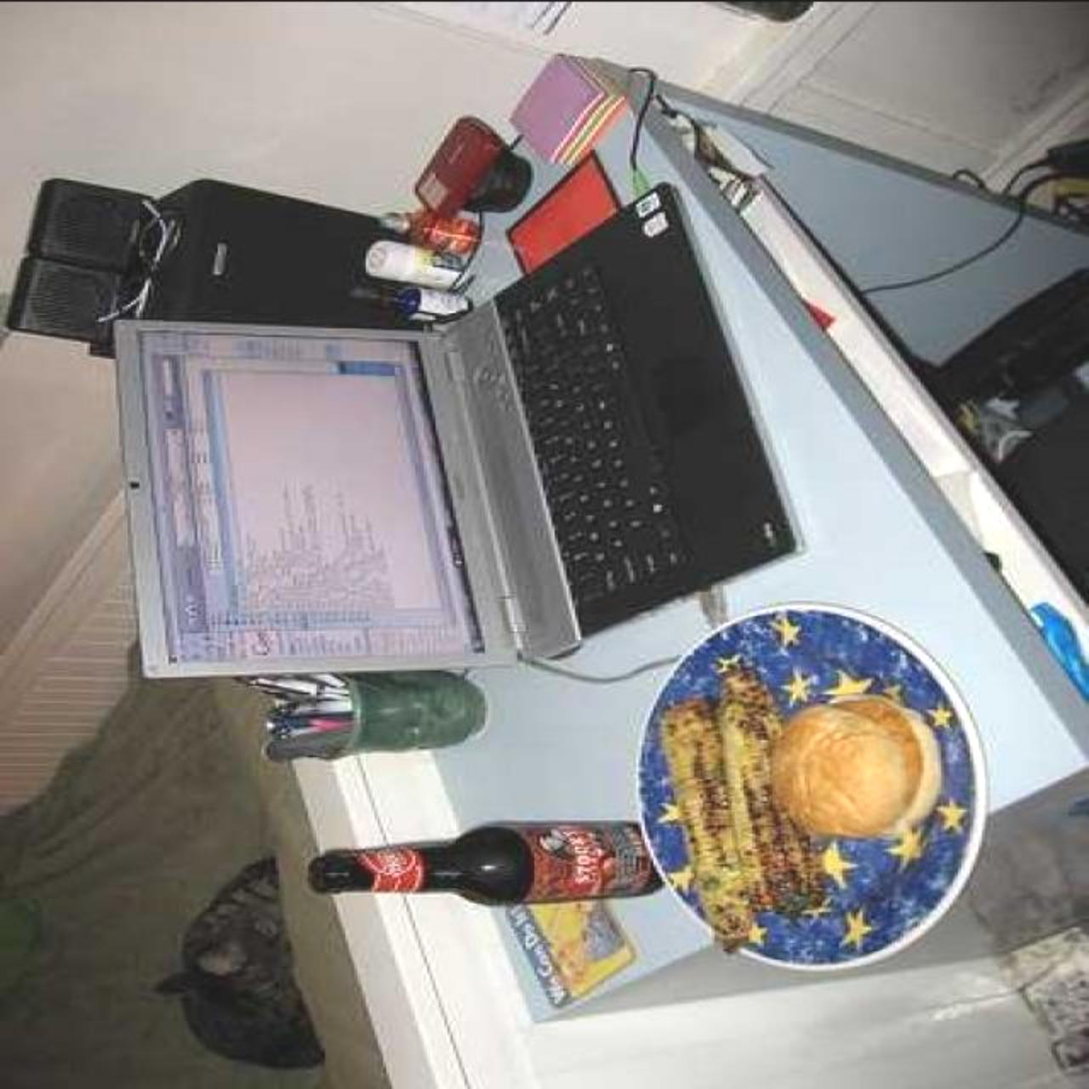laptop: (141, 320, 740, 592)
